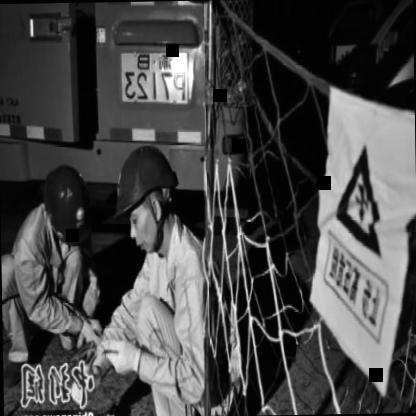helmet: (113, 136, 185, 264), (38, 161, 91, 264)
